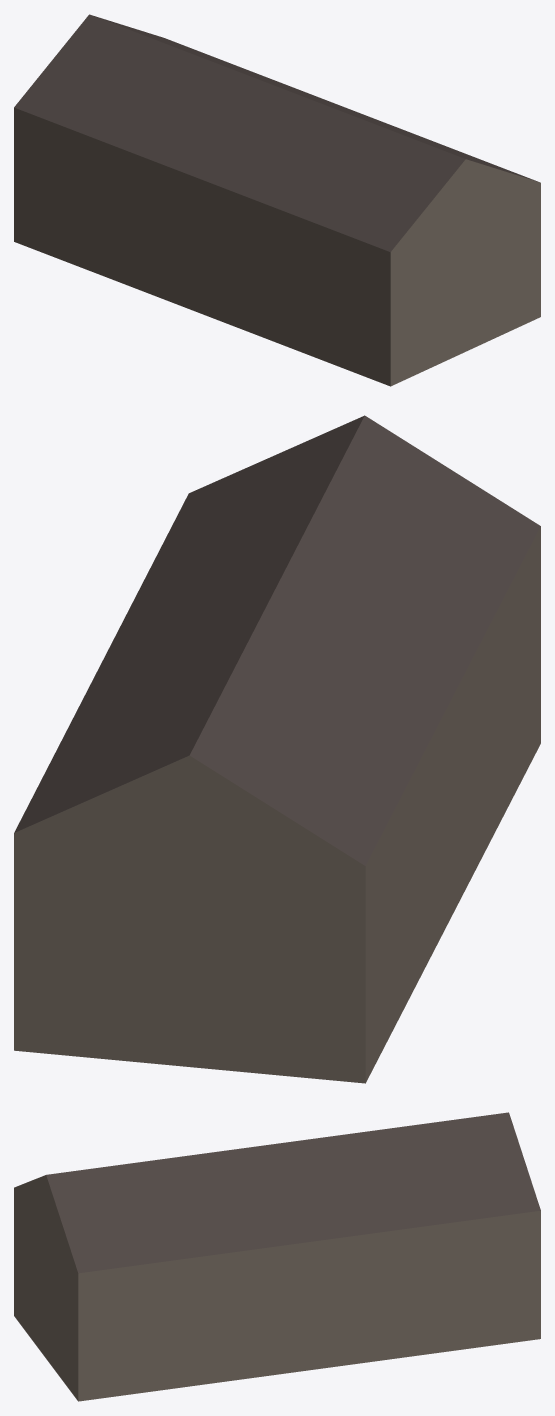
3 views of the same model, one above another, from view 1: azimuth 30°, elevation 25°; view 2: azimuth 150°, elevation 25°; view 3: azimuth 270°, elevation 25° (orthographic). The views are drawn at different scales.
Visible parts, largest first — view 1: HP-w1200835421; view 2: HP-w1200835421; view 3: HP-w1200835421.
Boxes of the visible parts, left/top/right/bottom form: HP-w1200835421: left=14, top=14, right=540, bottom=386; HP-w1200835421: left=14, top=415, right=540, bottom=1083; HP-w1200835421: left=14, top=1112, right=540, bottom=1401.
Bounding box in the file's own units: 14.87 × 8.61 × 22.35.
